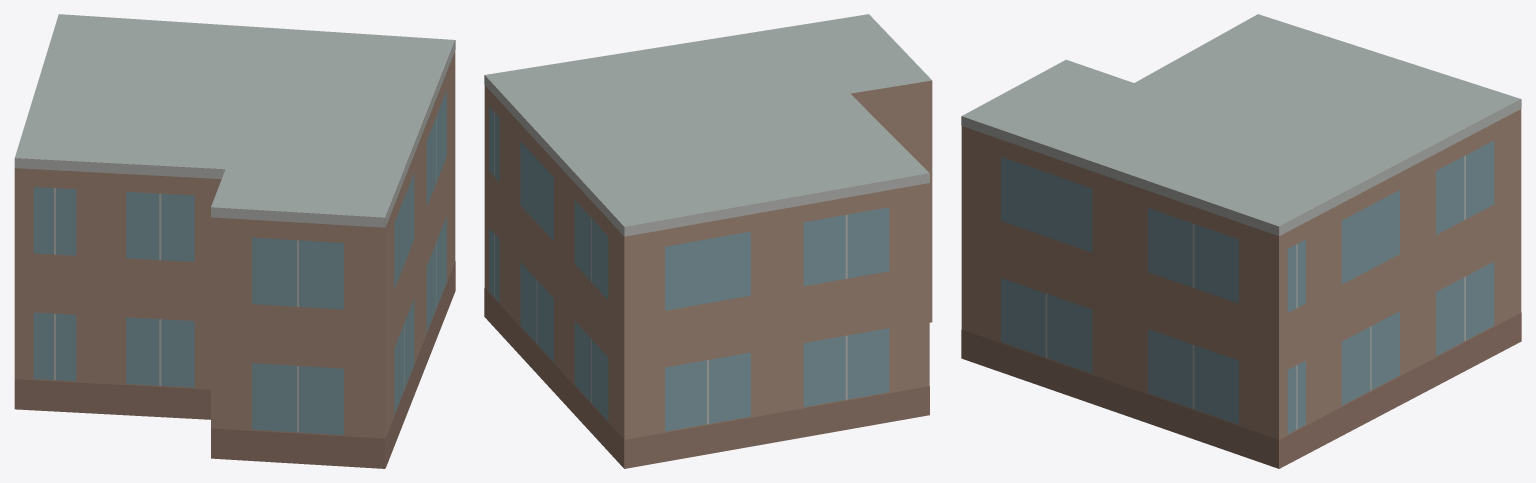
The model's file is survey-upis-32914669.glb.
3 views of the same model, side by side, from view 1: azimuth 30°, elevation 25°; view 2: azimuth 150°, elevation 25°; view 3: azimuth 270°, elevation 25° (orthographic). The views are drawn at different scales.
Parts seen in each view (by area): view 1: survey-upis-32914669.tmp; view 2: survey-upis-32914669.tmp; view 3: survey-upis-32914669.tmp.
Boxes of the visible parts, x1,y1,x2,y2 form: survey-upis-32914669.tmp: (14,14,455,468); survey-upis-32914669.tmp: (484,14,932,468); survey-upis-32914669.tmp: (961,14,1521,468).
Size of the model in its own units: 11.48 by 6.1 by 12.79.
